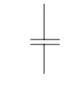Capacitor: (27, 30, 63, 56)
